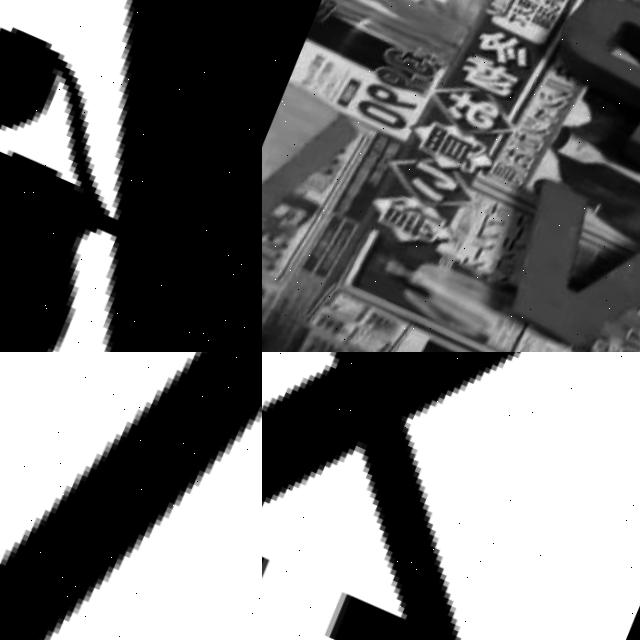K: (0, 0, 262, 352)
P: (537, 0, 640, 178)
V: (0, 352, 262, 640), (469, 174, 640, 352)
X: (262, 352, 640, 640)
